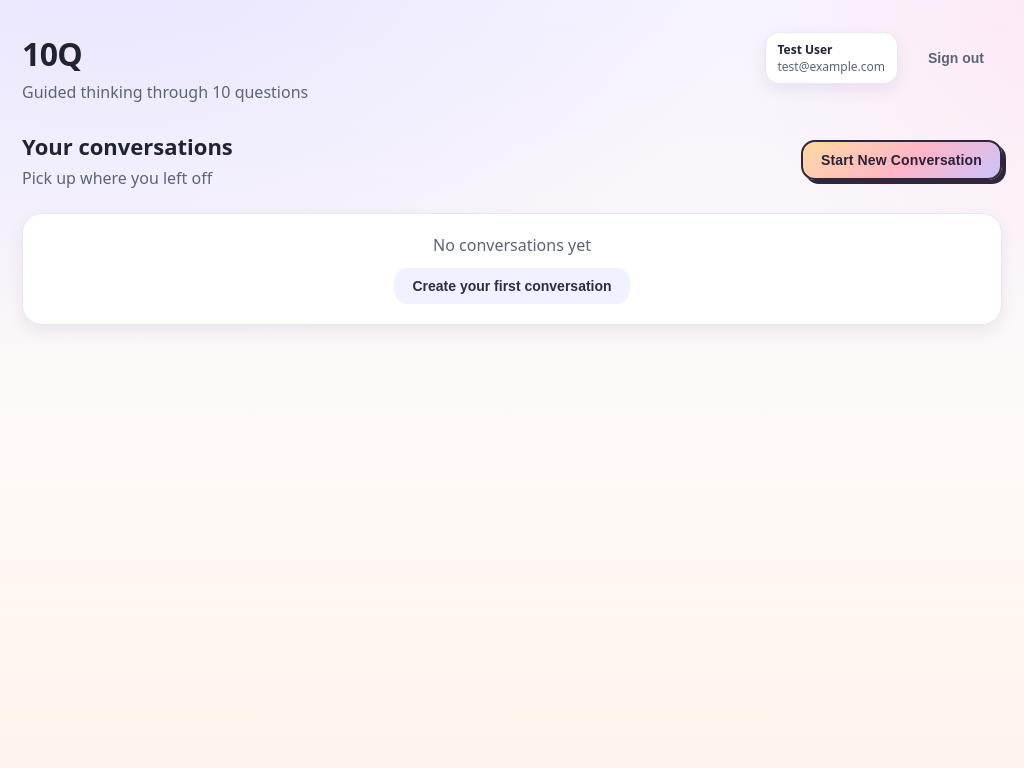
Test case: Dashboard › new conversation modal › opens the modal when "Start New Conversation" is clicked
Click the button "Start New Conversation".
click(902, 160)  # box 801,140 -> 1002,180
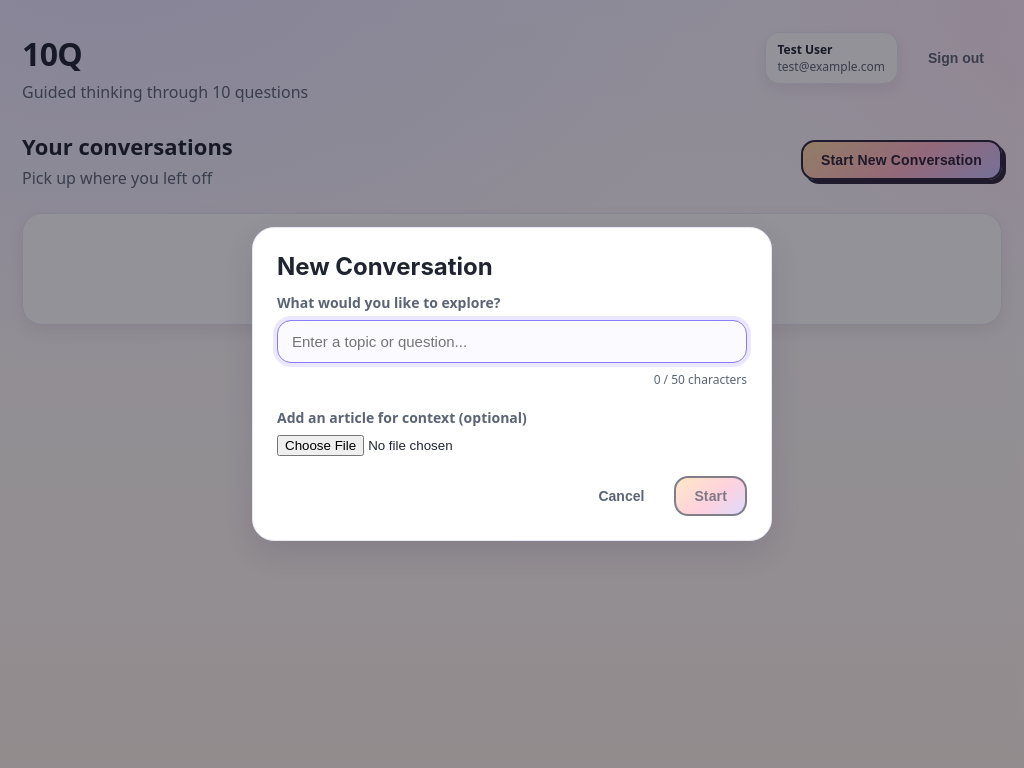
Now the field with placeholder "Enter a topic or question..." is shown, box 277,320 -> 747,363
